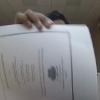notebook: (0, 22, 98, 99)
